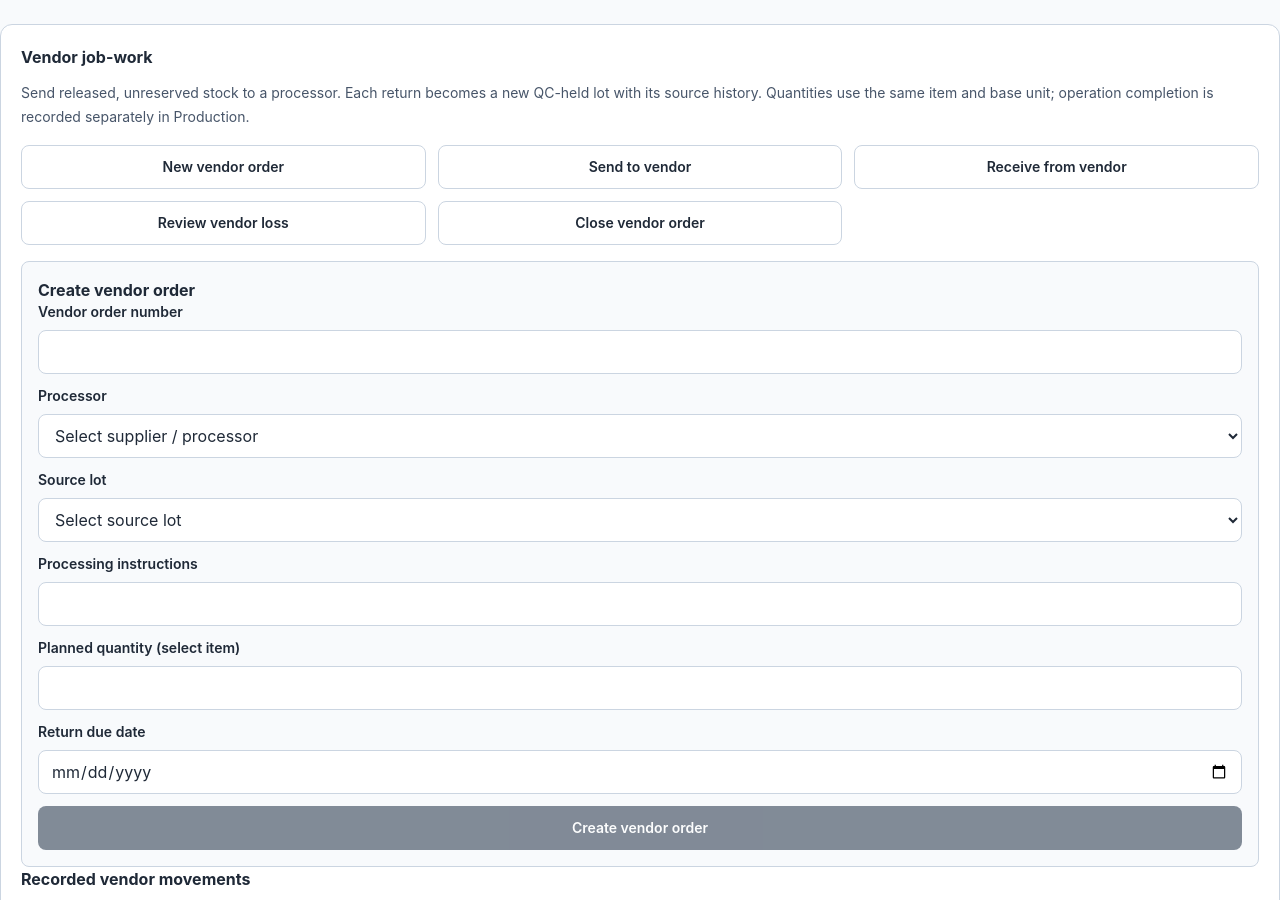
Test case: keeps unsent cancellation explicit and preserves failed operator input
The width and height of the screenshot is (1280, 900).
Click the button "Close vendor order" at (640, 223), box [438,201,842,245]
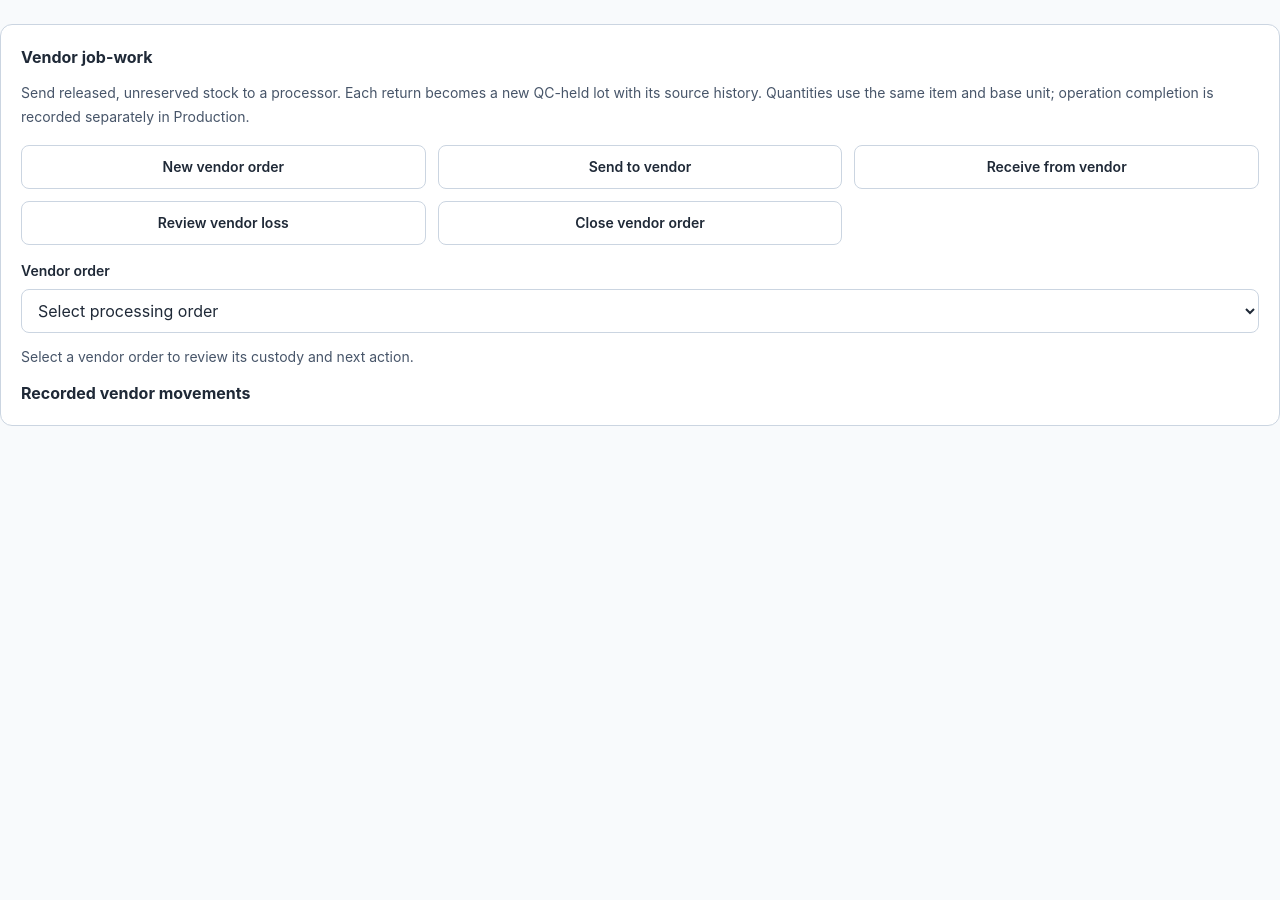
Select "SAMPLE-VENDOR · SAMPLE finish · open" in the dropdown labelled "Vendor order" at (640, 311), box [21,289,1259,333]
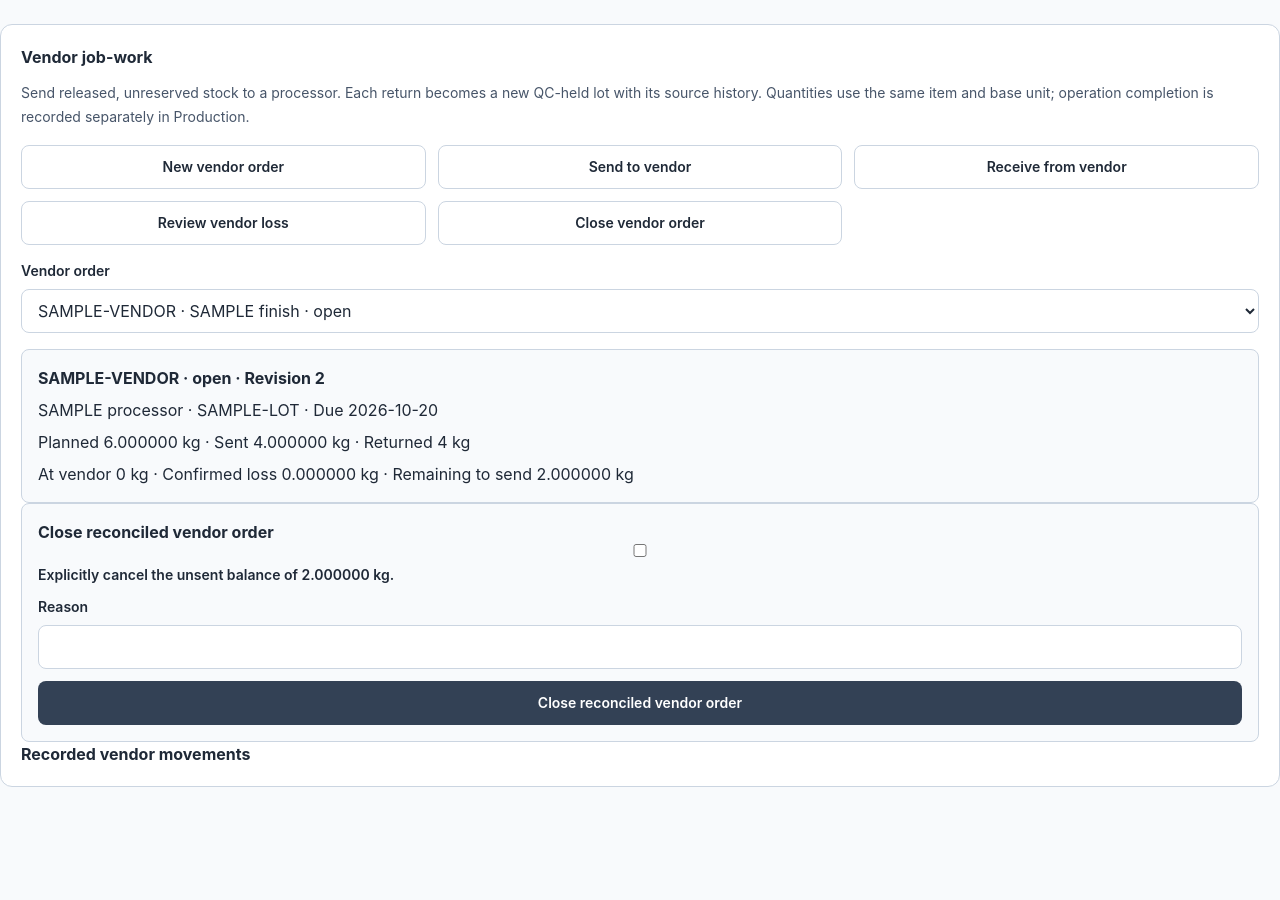
Type "SAMPLE finish and cancel remainder" into the field named "Vendor action reason" at (640, 647), box [38,625,1242,669]
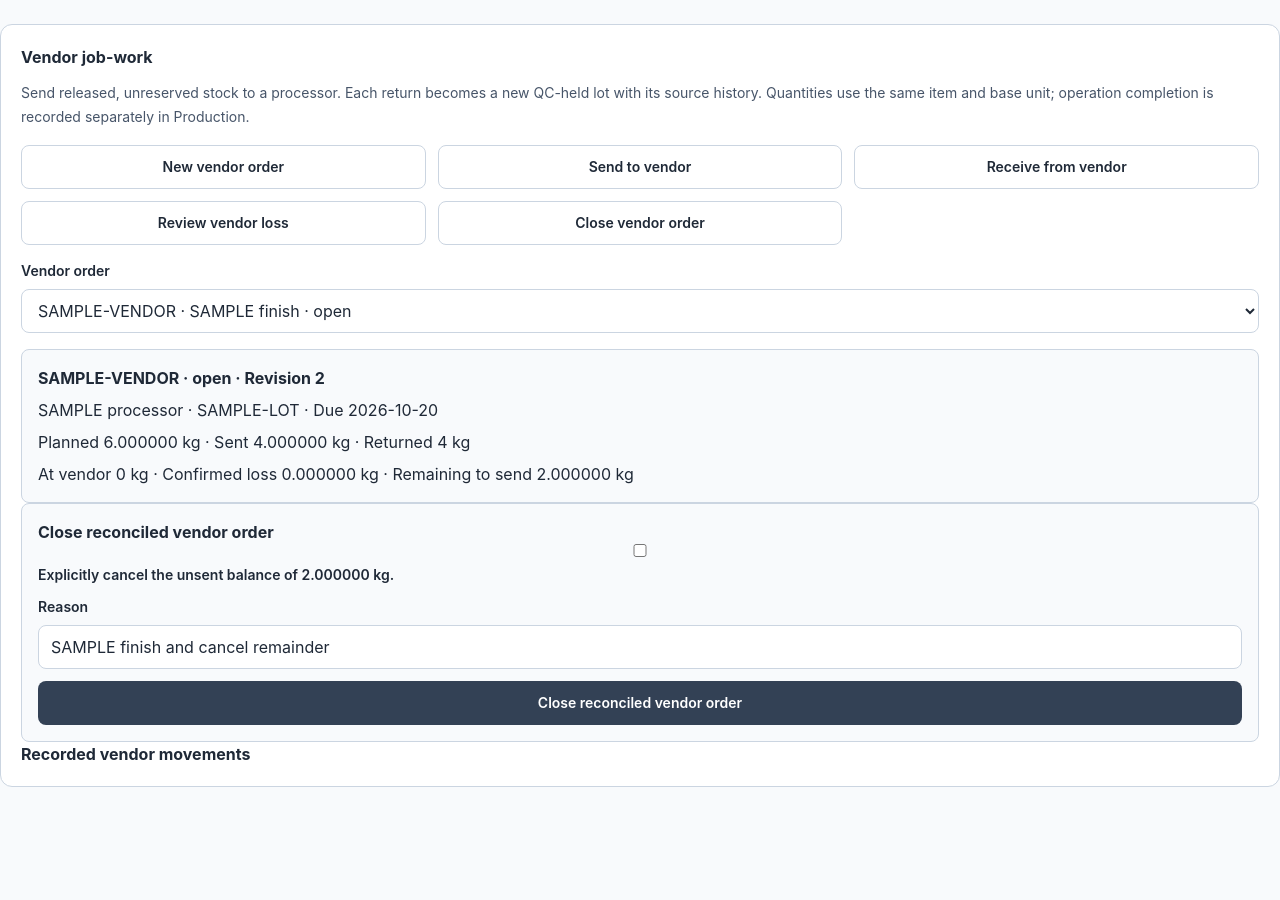
Submit the form "Close reconciled vendor order", box [21,503,1259,742]
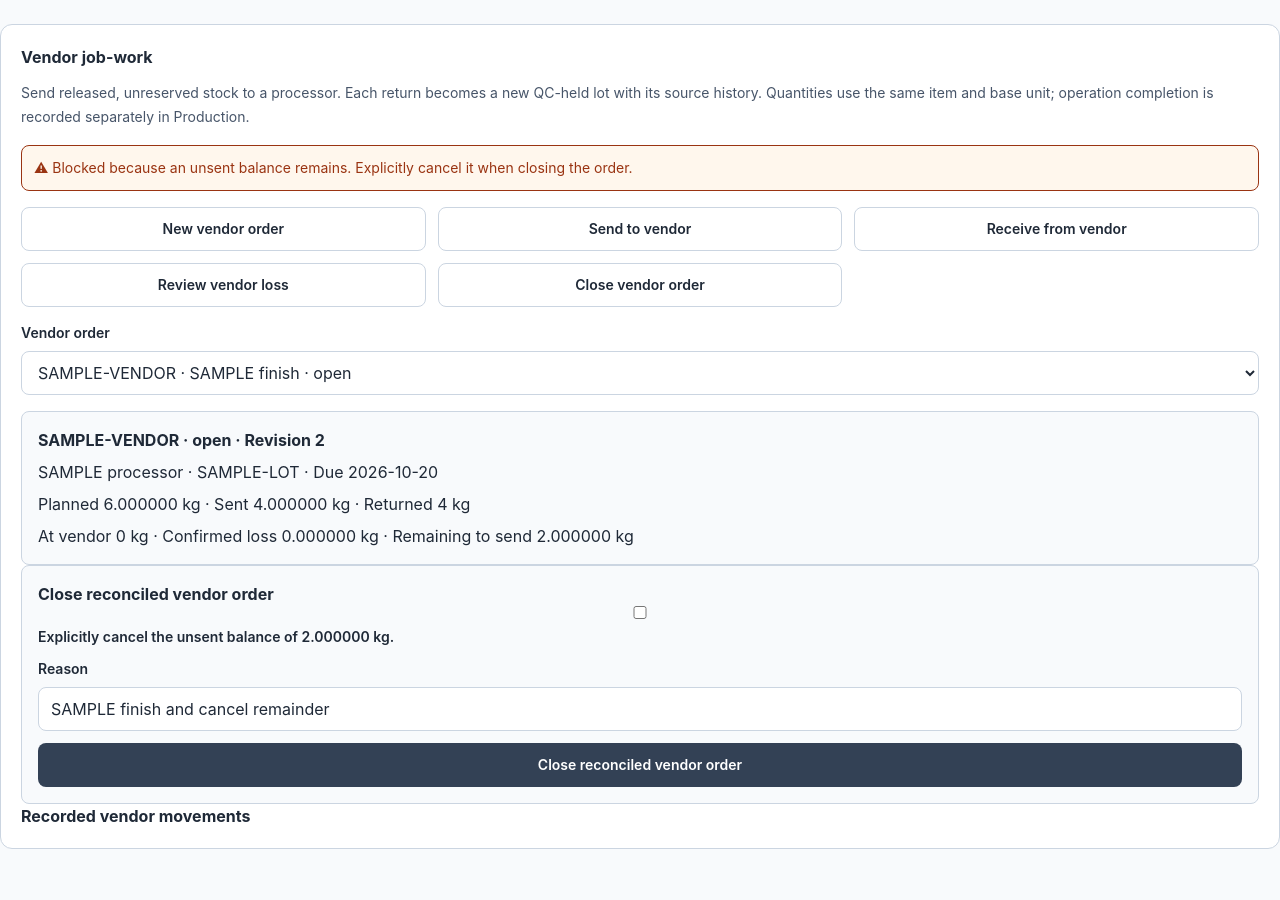
Now the message shows "unsent balance remains", box [52,159,633,176]
